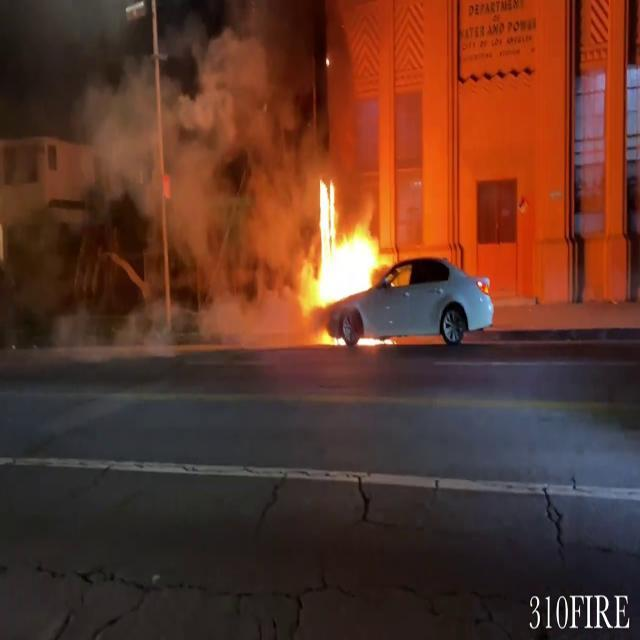Fire: (296, 172, 392, 334)
Smoke: (81, 14, 326, 333)
